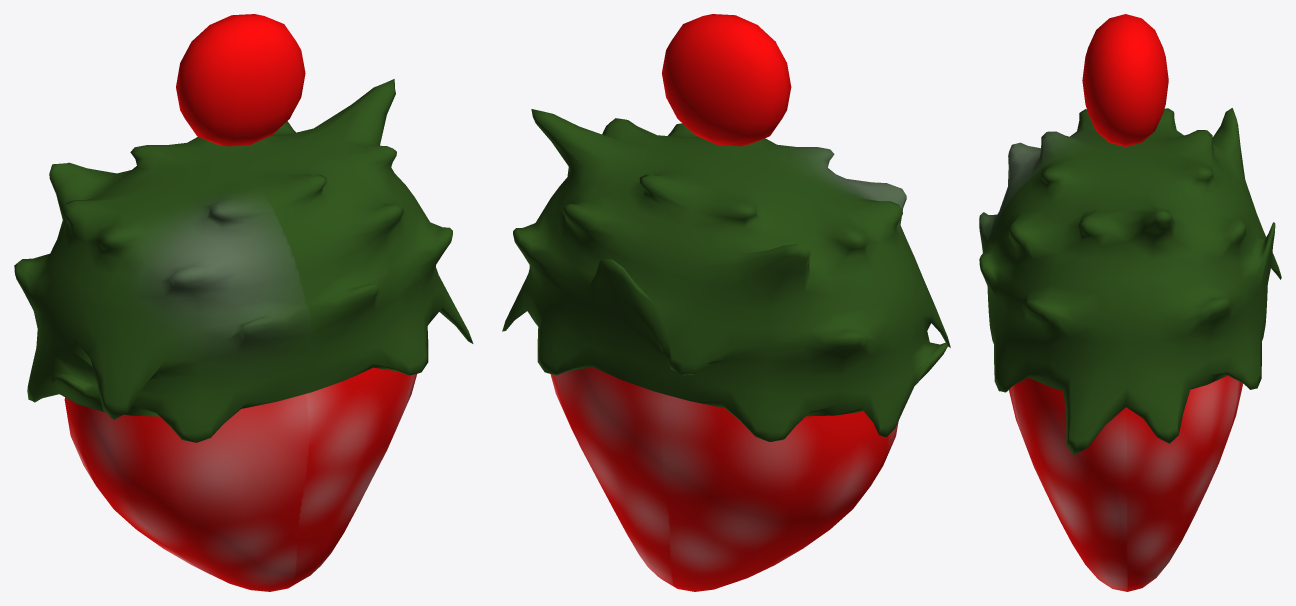
The model's file is Straberry.glb.
3 renders of one model, left to right at view 1: azimuth 30°, elevation 25°; view 2: azimuth 150°, elevation 25°; view 3: azimuth 270°, elevation 25°, orthographic. The views are drawn at different scales.
Parts seen in each view (by area): view 1: Straberry; view 2: Straberry; view 3: Straberry.
Boxes of the visible parts, bbox=[...] form: Straberry: bbox=[14, 14, 473, 591]; Straberry: bbox=[502, 14, 950, 591]; Straberry: bbox=[979, 14, 1281, 591].
Size of the model in its own units: 0.1235 by 0.1692 by 0.0844.
1 material, 1 textured.
